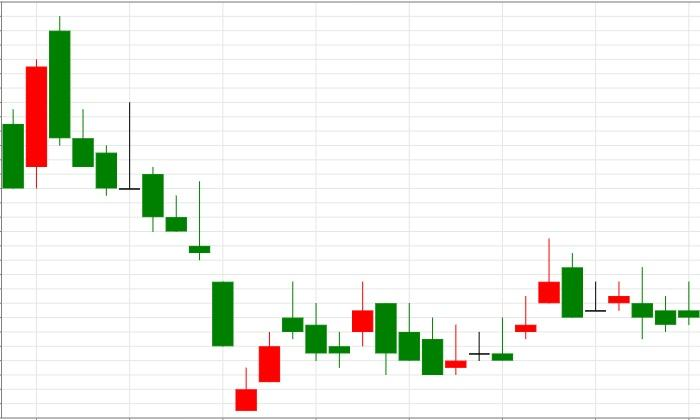shooting_star_fall: (445, 238, 559, 374)
